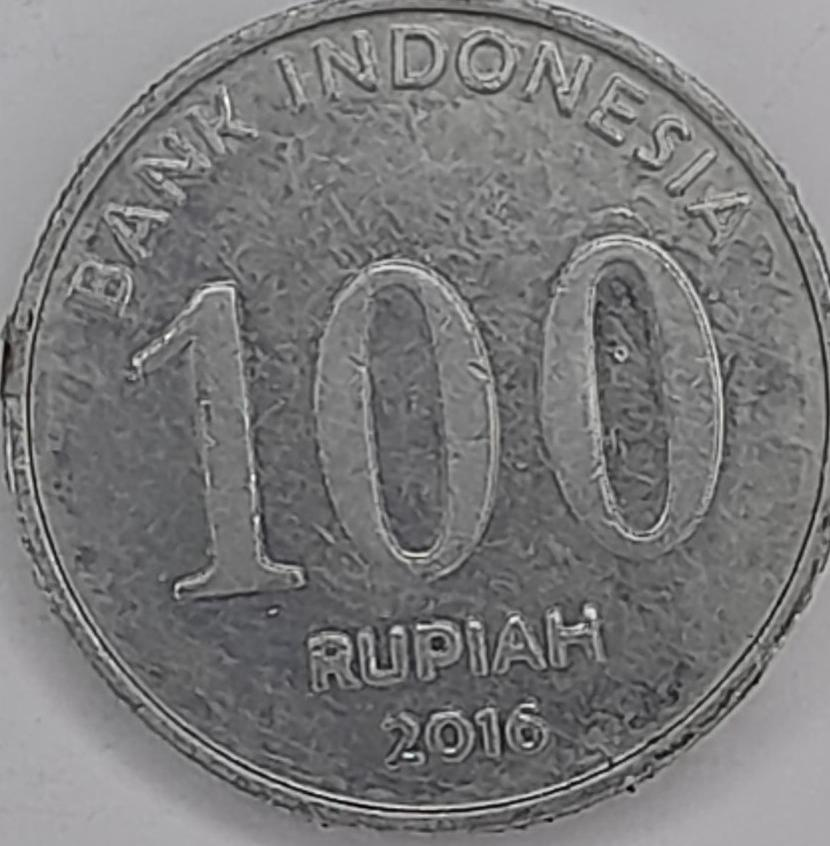coin_100_e2016: (0, 0, 829, 838)
